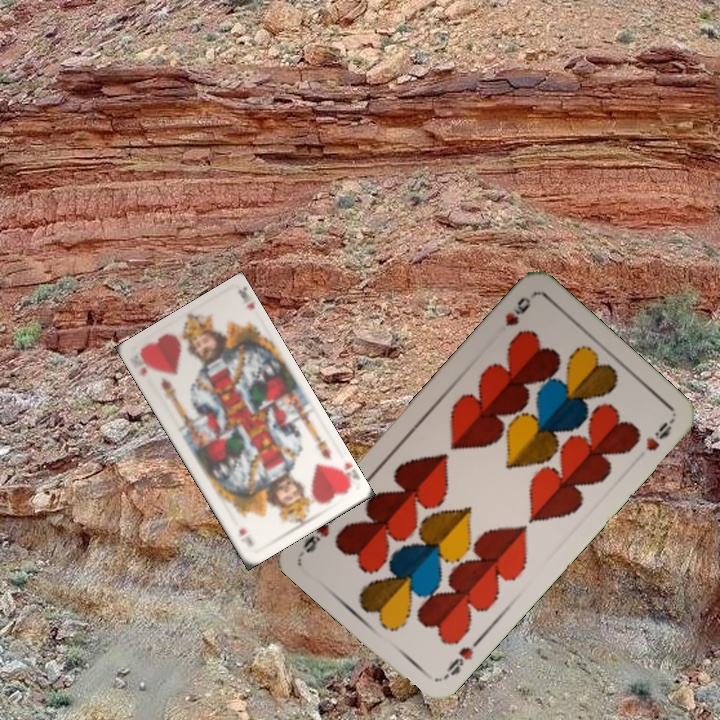H9: (439, 634, 483, 682), (501, 292, 534, 329)
HK: (332, 458, 361, 491), (126, 349, 155, 379)
